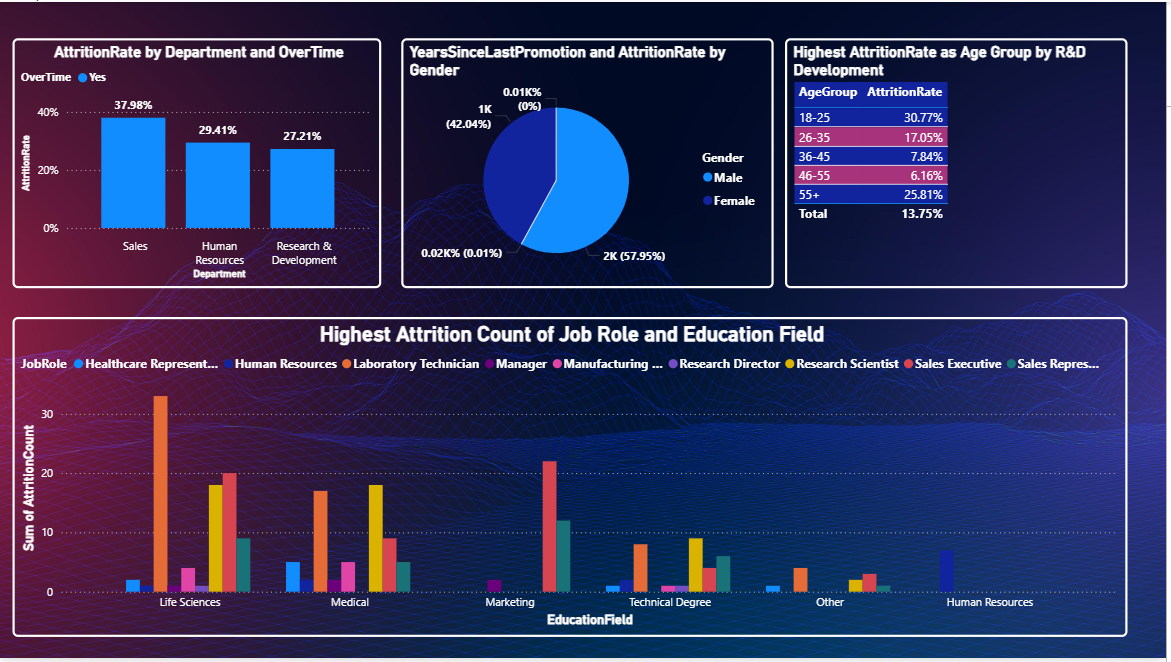

The page's visual inventory and layout, read from the dashboard file:
{"tool":"powerbi","page":{"name":"HR INFORMATION","canvas":[1280,720],"ordinal":3},"visuals":[{"type":"clusteredColumnChart","fields":{"Y":["HR_Analytics.AttritionRate"],"Category":["HR_Analytics.Department"],"Series":["HR_Analytics.OverTime"]},"box":[13.7,39.8,404.8,274.4],"z":0},{"type":"clusteredColumnChart","title":"Highest Attrition Count of Job Role and Education Field","fields":{"Y":["Sum(HR_Analytics.AttritionCount)"],"Category":["HR_Analytics.EducationField"],"Series":["HR_Analytics.JobRole"]},"box":[13.7,345.8,1224,351.3],"z":1000},{"type":"pieChart","title":"YearsSinceLastPromotion and AttritionRate by Gender","fields":{"Category":["HR_Analytics.Gender"],"Y":["Sum(HR_Analytics.YearsSinceLastPromotion)","HR_Analytics.AttritionRate"]},"box":[440.5,39.8,408.9,274.4],"z":2000},{"type":"tableEx","title":"Highest AttritionRate as Age Group by R&D Development","fields":{"Values":["HR_Analytics.AgeGroup","HR_Analytics.AttritionRate"]},"box":[861.8,39.8,376,274.4],"z":3000}]}

Visuals, with their boxes in screenshot pixels (x1, y1, x2, y2), scaled from the page's 1280x720 canvas onto the 1171x662 screenshot:
clusteredColumnChart - HR_Analytics.AttritionRate x HR_Analytics.Department: (13, 37, 383, 289)
"Highest Attrition Count of Job Role and Education Field" clusteredColumnChart: (13, 318, 1132, 641)
"YearsSinceLastPromotion and AttritionRate by Gender" pieChart: (403, 37, 777, 289)
"Highest AttritionRate as Age Group by R&D Development" tableEx: (788, 37, 1132, 289)
